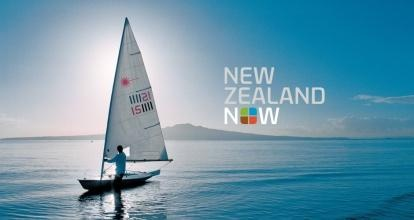fanchuan: (80, 16, 174, 199)
